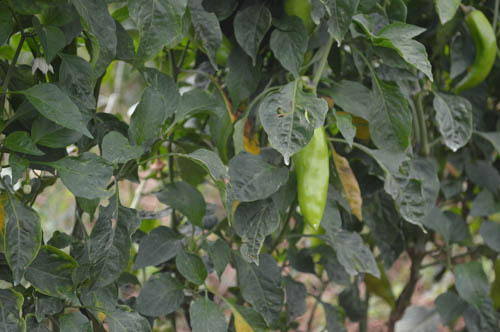ChiliPepper: (293, 131, 332, 235), (449, 11, 496, 96)
